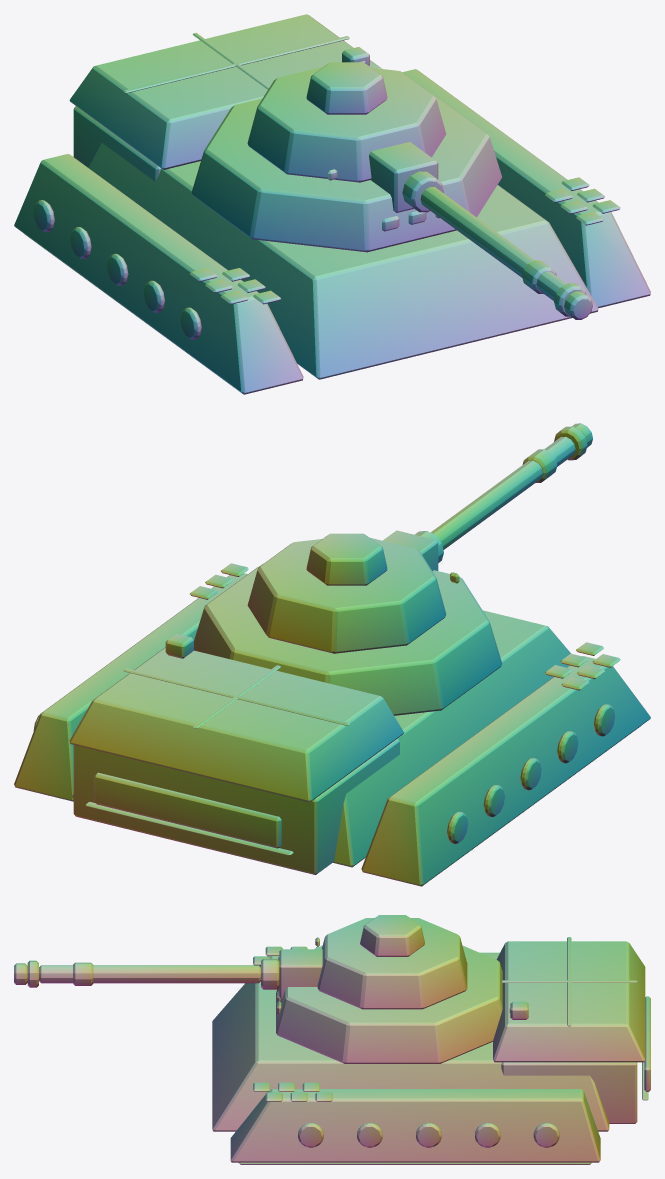
The model's file is hovertank_rig.glb.
3 renders of one model, top to bottom at view 1: azimuth 30°, elevation 25°; view 2: azimuth 150°, elevation 25°; view 3: azimuth 270°, elevation 25°, orthographic. The views are drawn at different scales.
Visible parts, largest first — view 1: body, turret, barrel; view 2: body, turret, barrel; view 3: body, turret, barrel.
Part boxes in pixels (x1,y1,x2,y2): body: [14, 14, 650, 394]; turret: [191, 62, 502, 252]; barrel: [369, 142, 592, 319]; body: [14, 563, 650, 886]; turret: [194, 533, 502, 715]; barrel: [382, 423, 592, 570]; body: [212, 937, 650, 1164]; turret: [276, 915, 502, 1063]; barrel: [14, 949, 322, 999].
Bounding box in the file's own units: 8.6 × 3.95 × 14.05.
